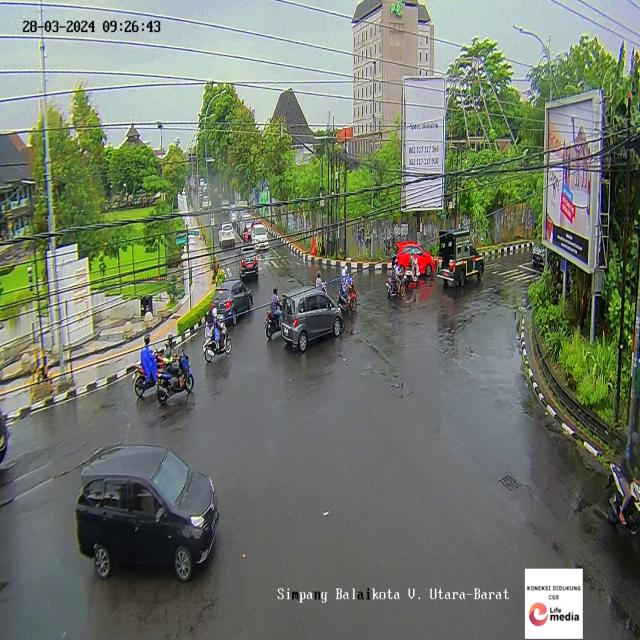car: (74, 445, 220, 583), (274, 287, 348, 353), (212, 279, 254, 321), (395, 239, 434, 277), (237, 245, 260, 284), (531, 238, 552, 270), (220, 222, 238, 250), (252, 220, 269, 248)
motorcycle: (157, 332, 194, 406), (134, 334, 169, 404), (204, 302, 230, 362), (264, 286, 287, 338), (338, 268, 362, 314), (384, 256, 404, 304), (404, 247, 422, 290)
truck: (436, 229, 484, 289)
